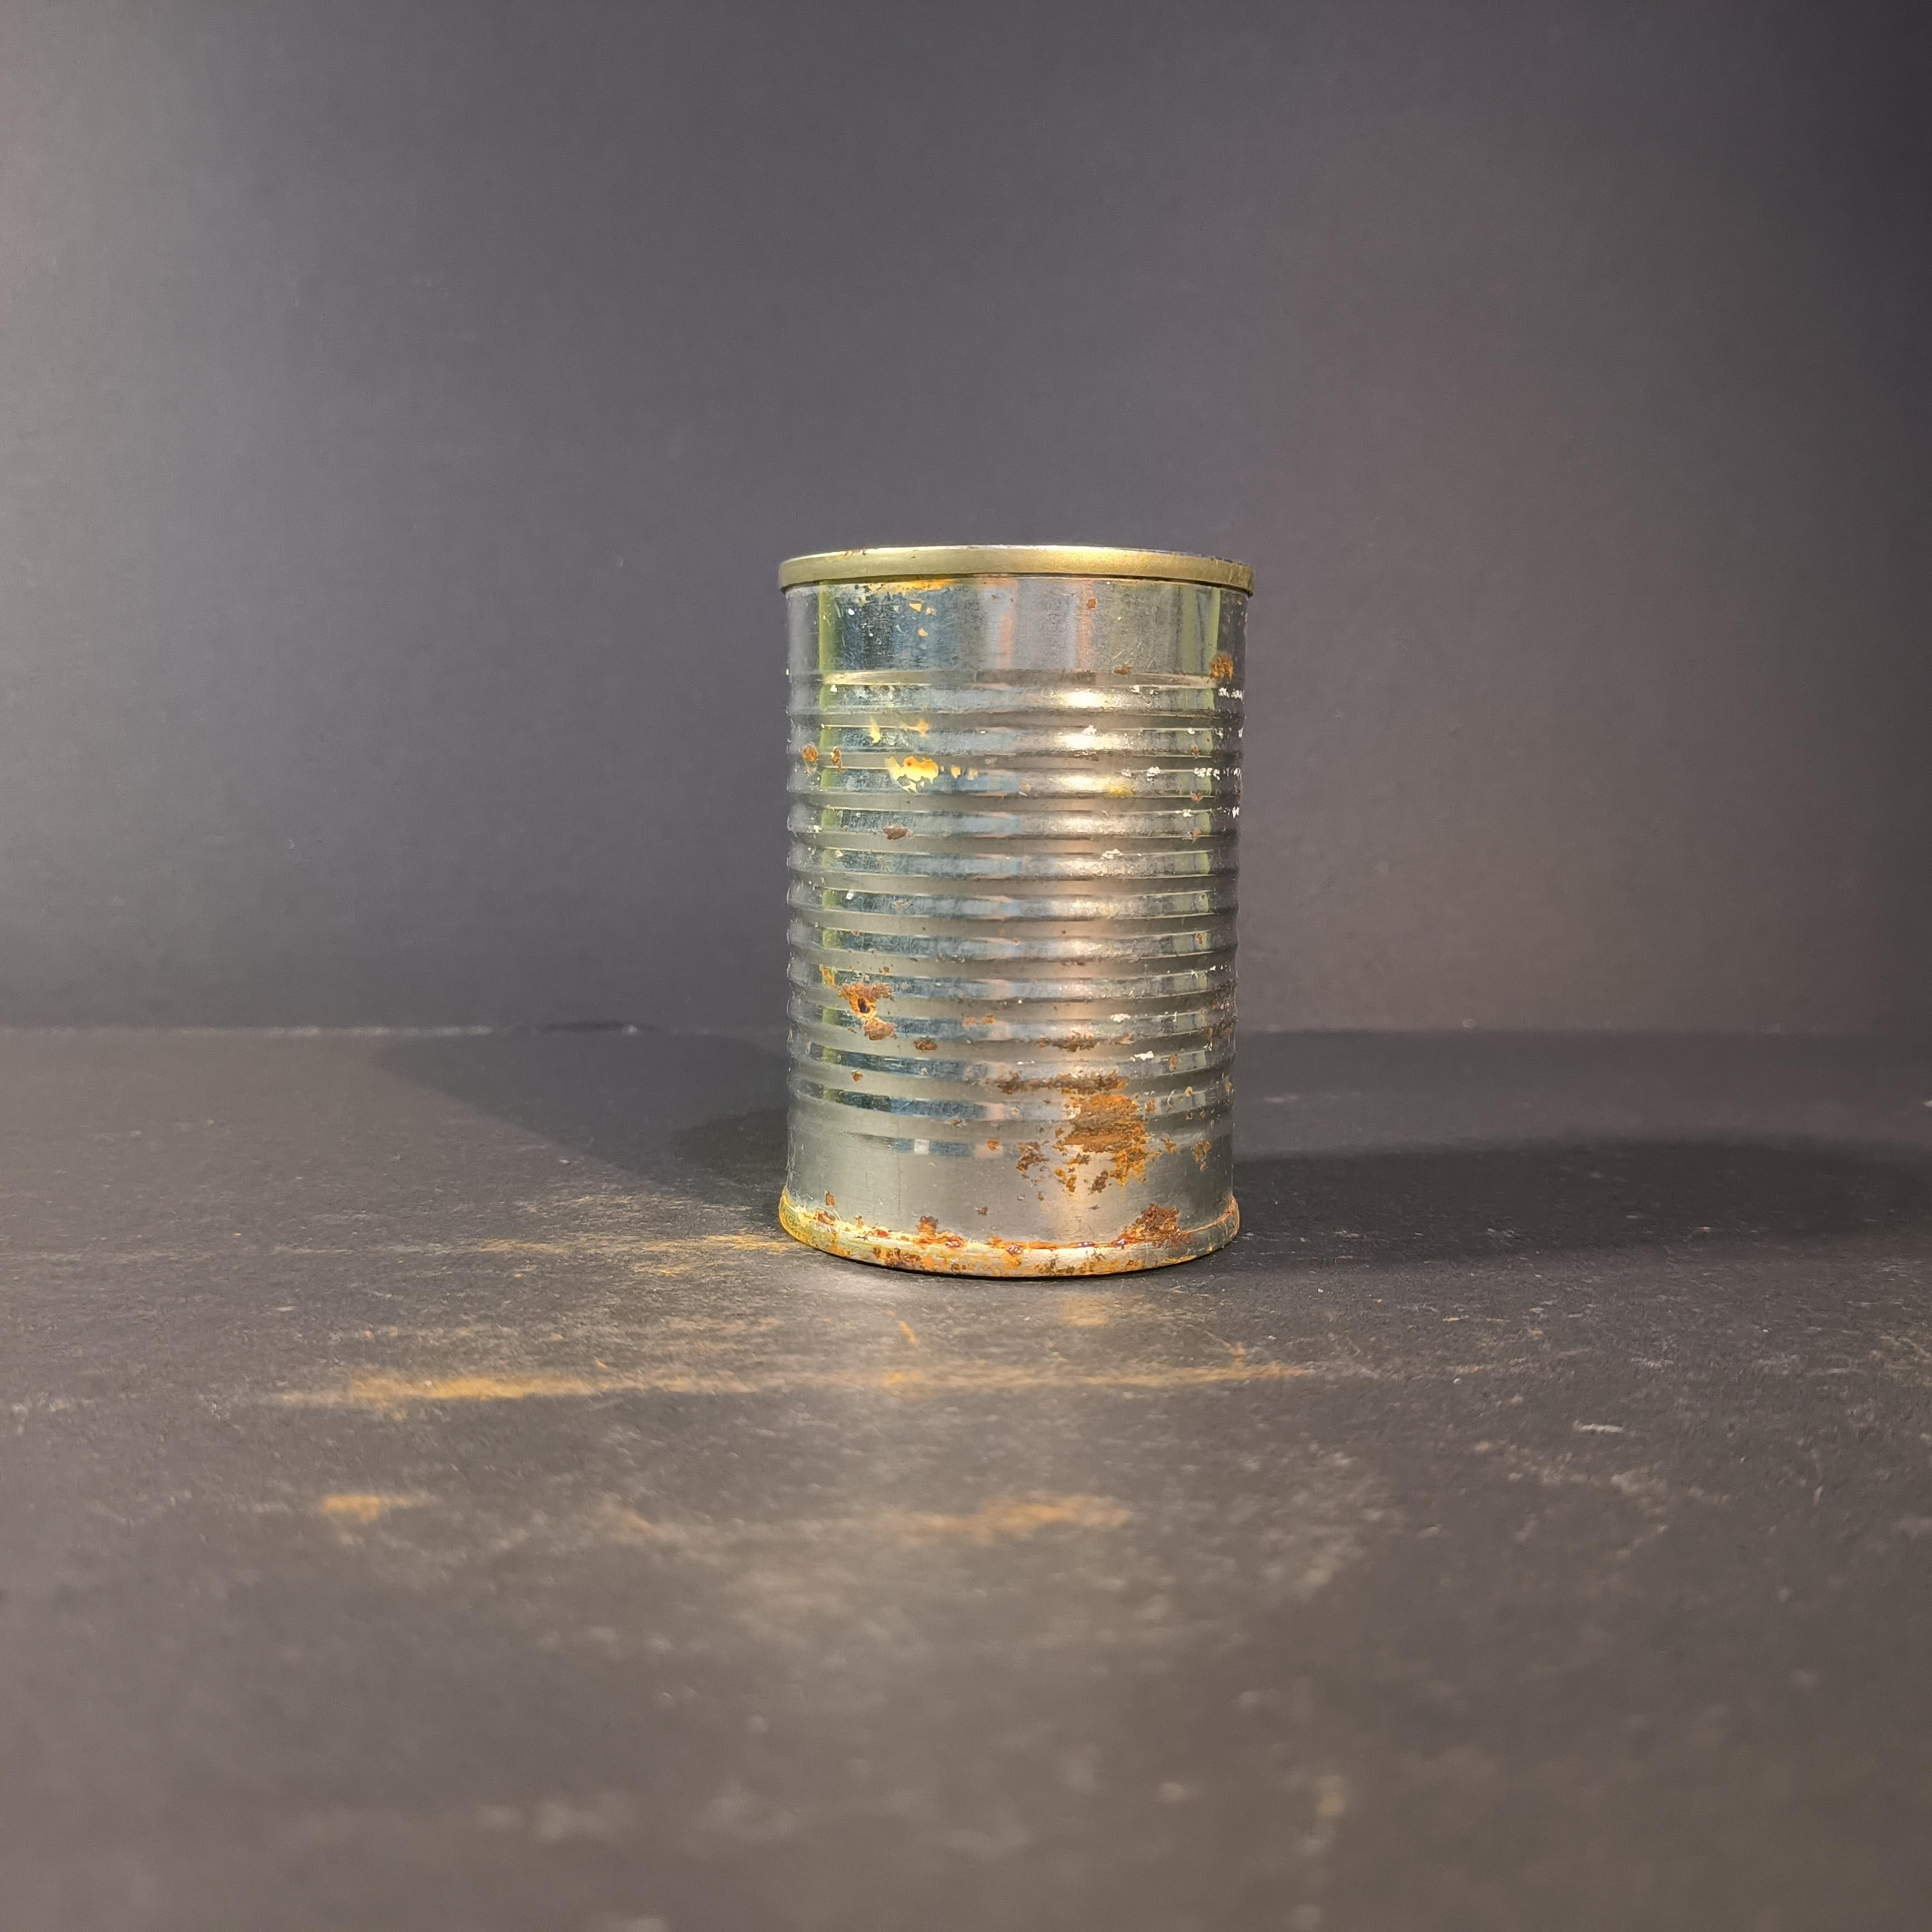Major Defect: (761, 529, 1258, 1288)
